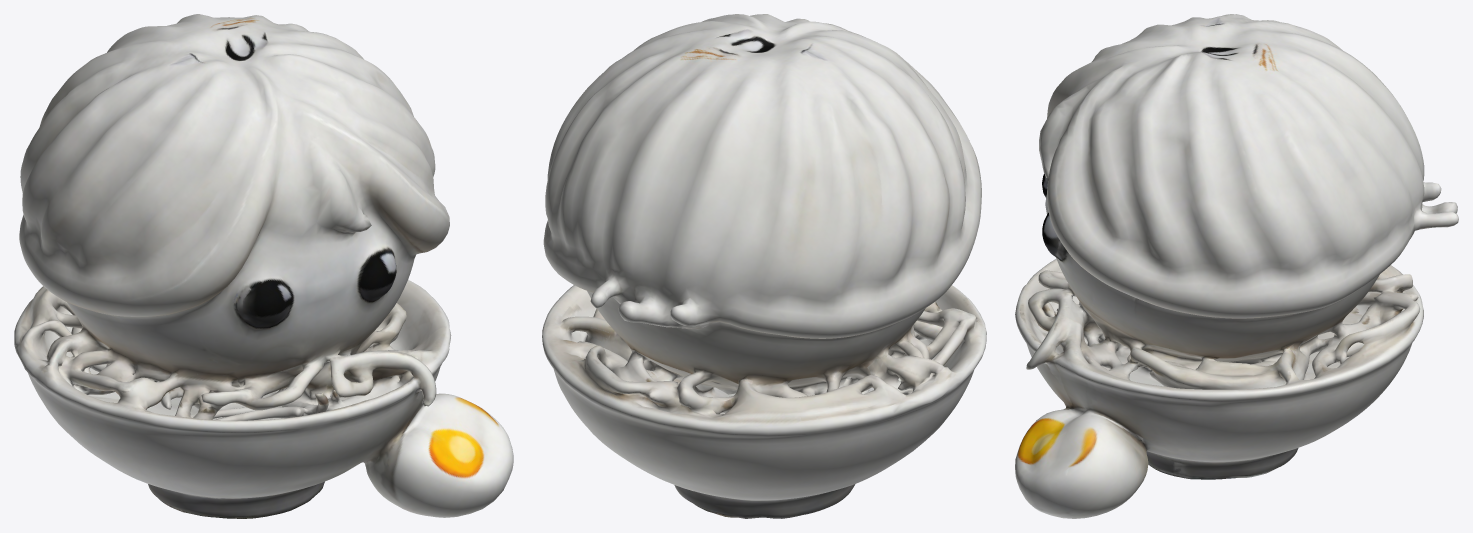
Rendered from 밀면몬.glb.
3 renders of one model, left to right at view 1: azimuth 30°, elevation 25°; view 2: azimuth 150°, elevation 25°; view 3: azimuth 270°, elevation 25°, orthographic. The views are drawn at different scales.
Size of the model in its own units: 1.83 by 1.98 by 1.96.
Materials: 1 (1 with a texture image).
